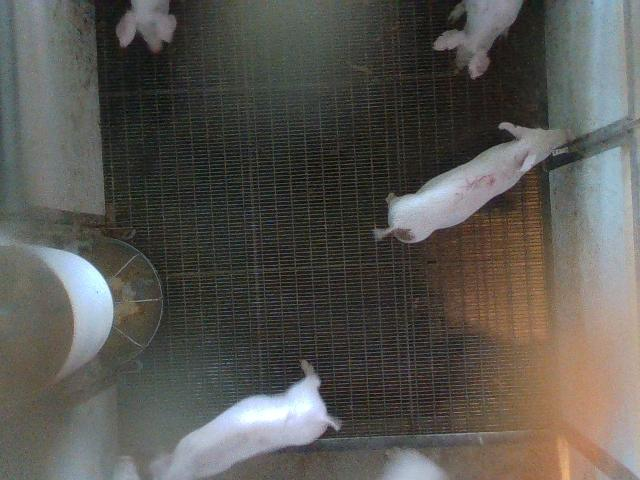pig-5: (375, 122, 569, 243)
